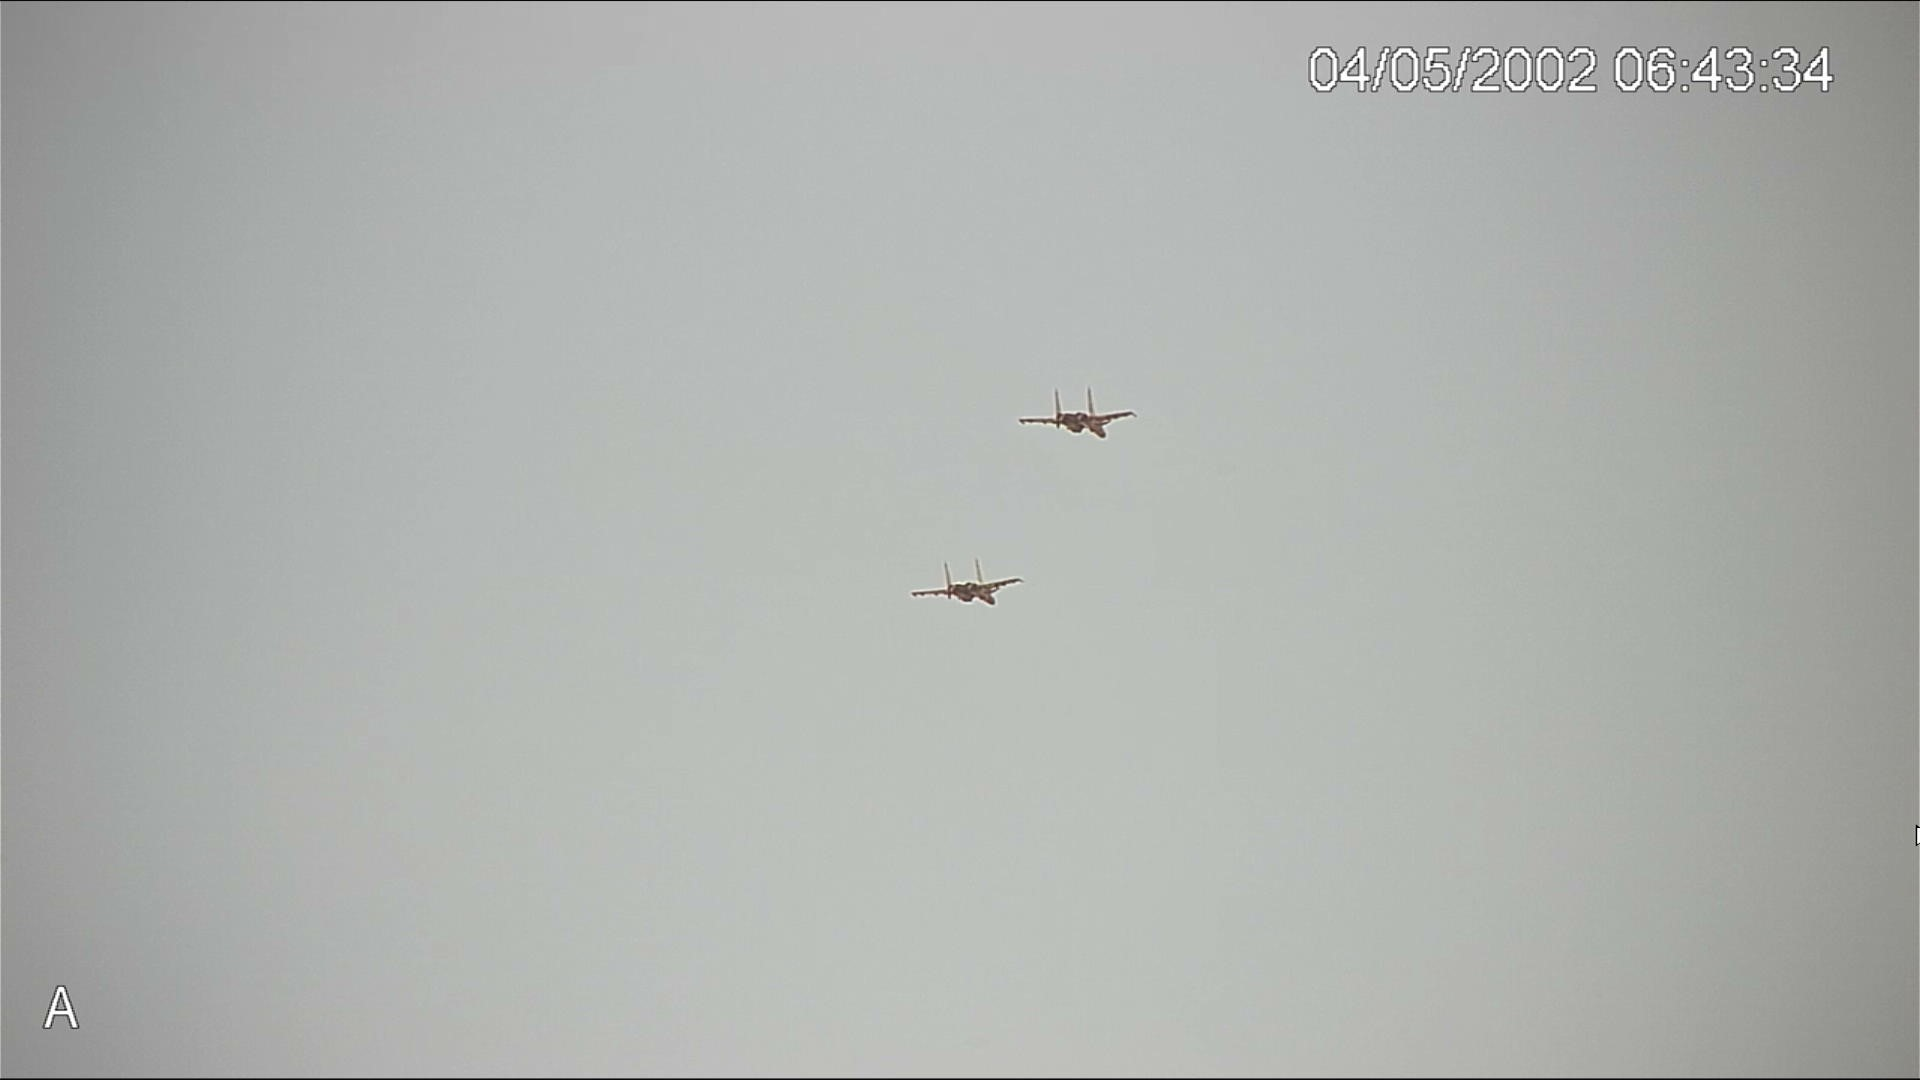SU_30: (1021, 386, 1147, 440), (913, 567, 1030, 611)
